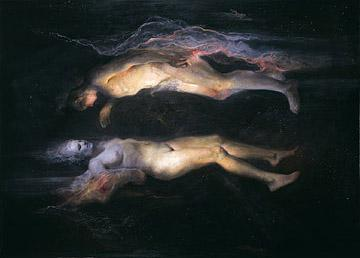person: (55, 49, 305, 118), (48, 132, 299, 198)
